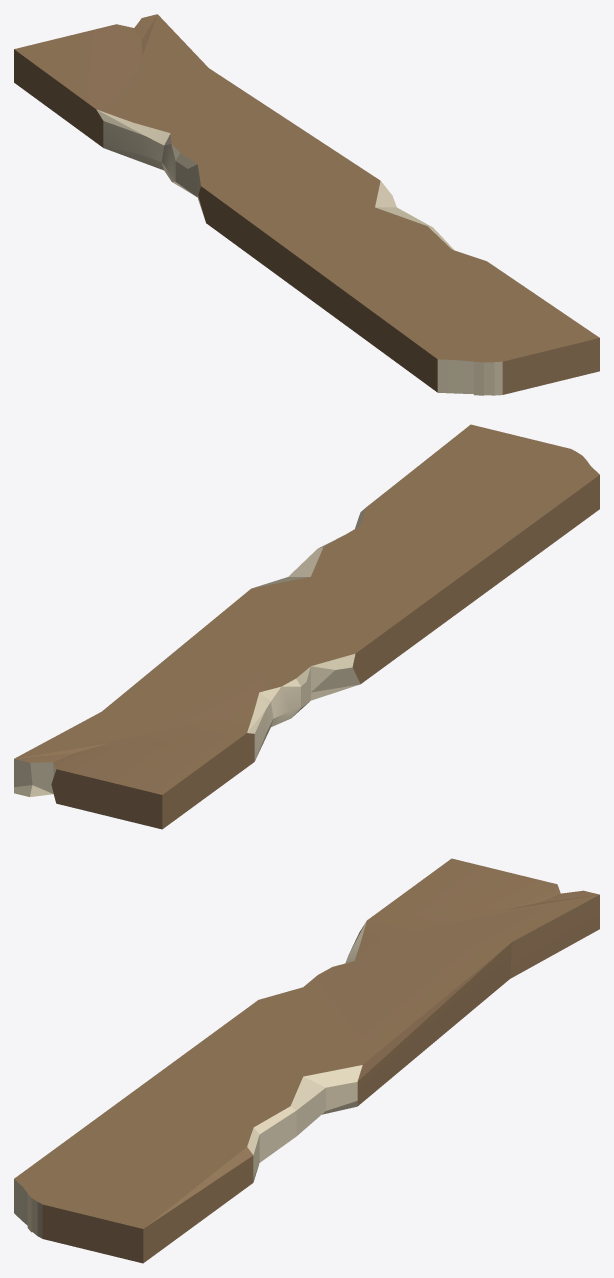
File: Plank3.fbx
3 renders of one model, top to bottom at view 1: azimuth 30°, elevation 25°; view 2: azimuth 150°, elevation 25°; view 3: azimuth 330°, elevation 25°, orthographic. The views are drawn at different scales.
Visible parts, largest first — view 1: 3; view 2: 3; view 3: 3.
Boxes of the visible parts, left/top/right/bottom form: 3: left=14, top=14, right=599, bottom=395; 3: left=14, top=424, right=599, bottom=829; 3: left=14, top=858, right=599, bottom=1263.
Size of the model in its own units: 45 by 10 by 240.
